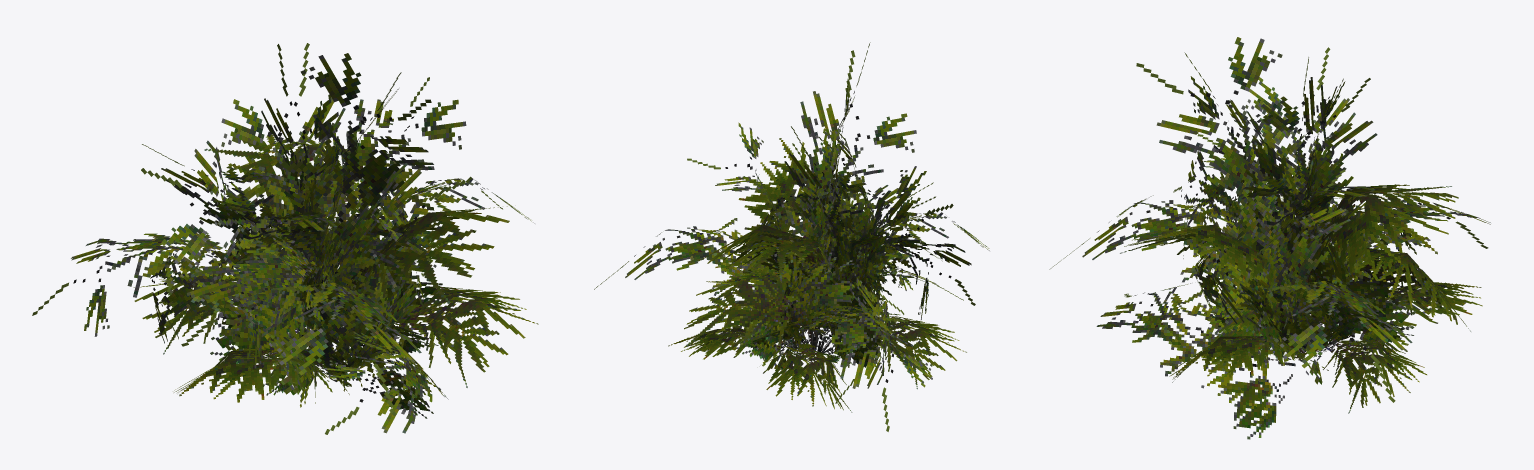
File: bush_04.glb
3 renders of one model, left to right at view 1: azimuth 30°, elevation 25°; view 2: azimuth 150°, elevation 25°; view 3: azimuth 270°, elevation 25°, orthographic. The views are drawn at different scales.
Parts seen in each view (by area): view 1: bush_04; view 2: bush_04; view 3: bush_04.
Part boxes in pixels (x1,y1,x2,y2): bush_04: (32,43,538,434); bush_04: (594,42,989,431); bush_04: (1049,37,1490,439).
Size of the model in its own units: 1.11 by 1 by 1.1.
1 material, 1 textured.
